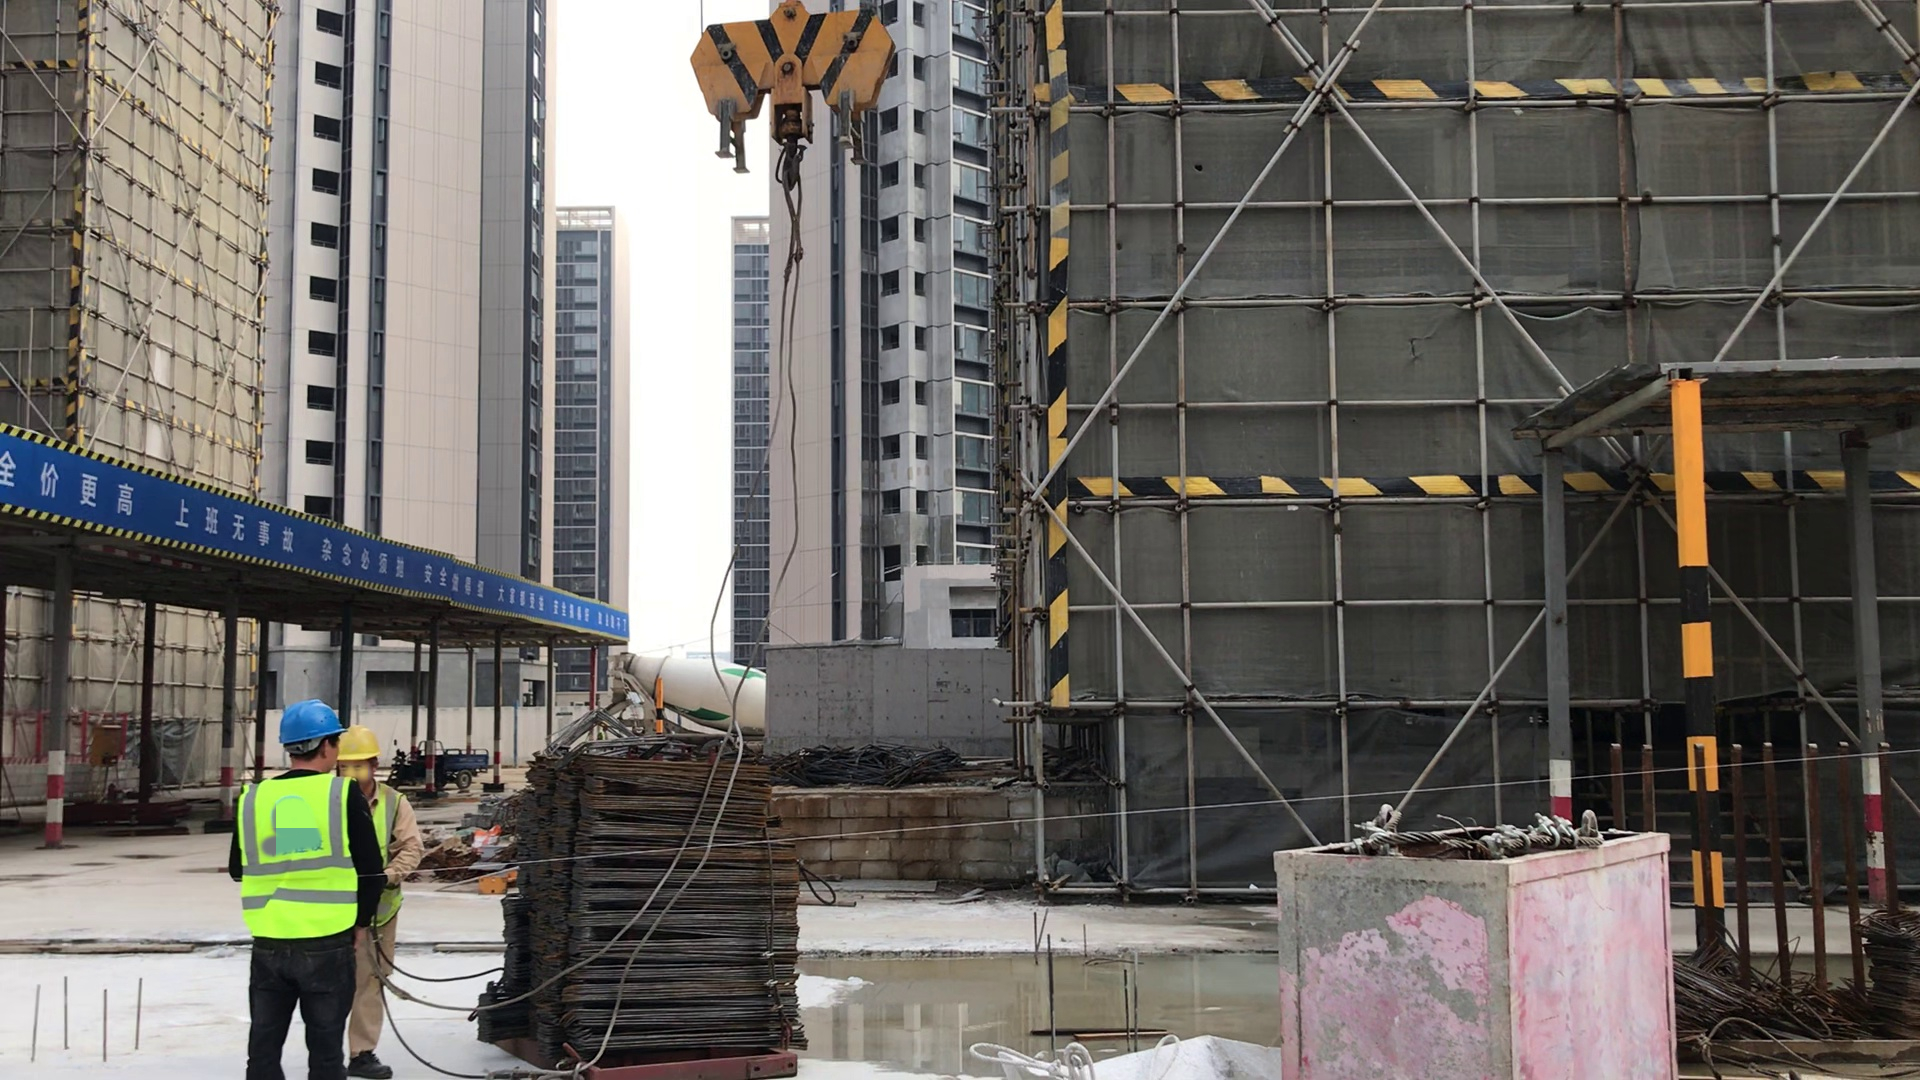helmet: (278, 704, 340, 739), (335, 727, 383, 757)
hook: (686, 2, 911, 189)
person: (228, 695, 384, 1070), (338, 732, 424, 1057)
slogan: (1, 432, 631, 645)
vest: (240, 739, 359, 945)
